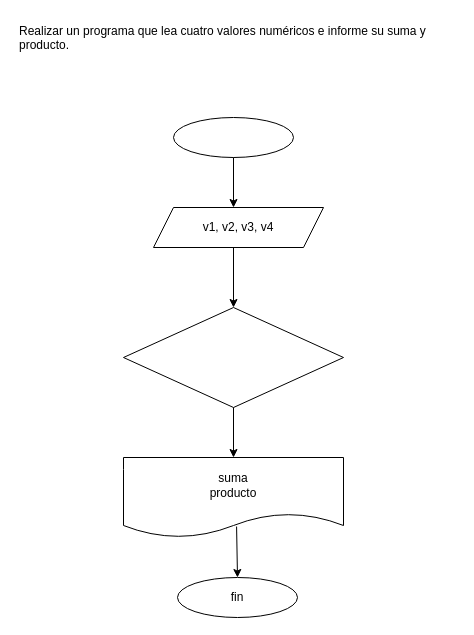
Some shapes in this 474 by 635 pixel diagram are drawn without their labels. The shapes that lost their labels are listed below. From the top down, each one's centre as x and y in pixels, then its label:
point (233, 137): inicio
point (233, 357): suma= v1+ v2 + v3 + v4 producto= v1 * v2 * v3* v4
